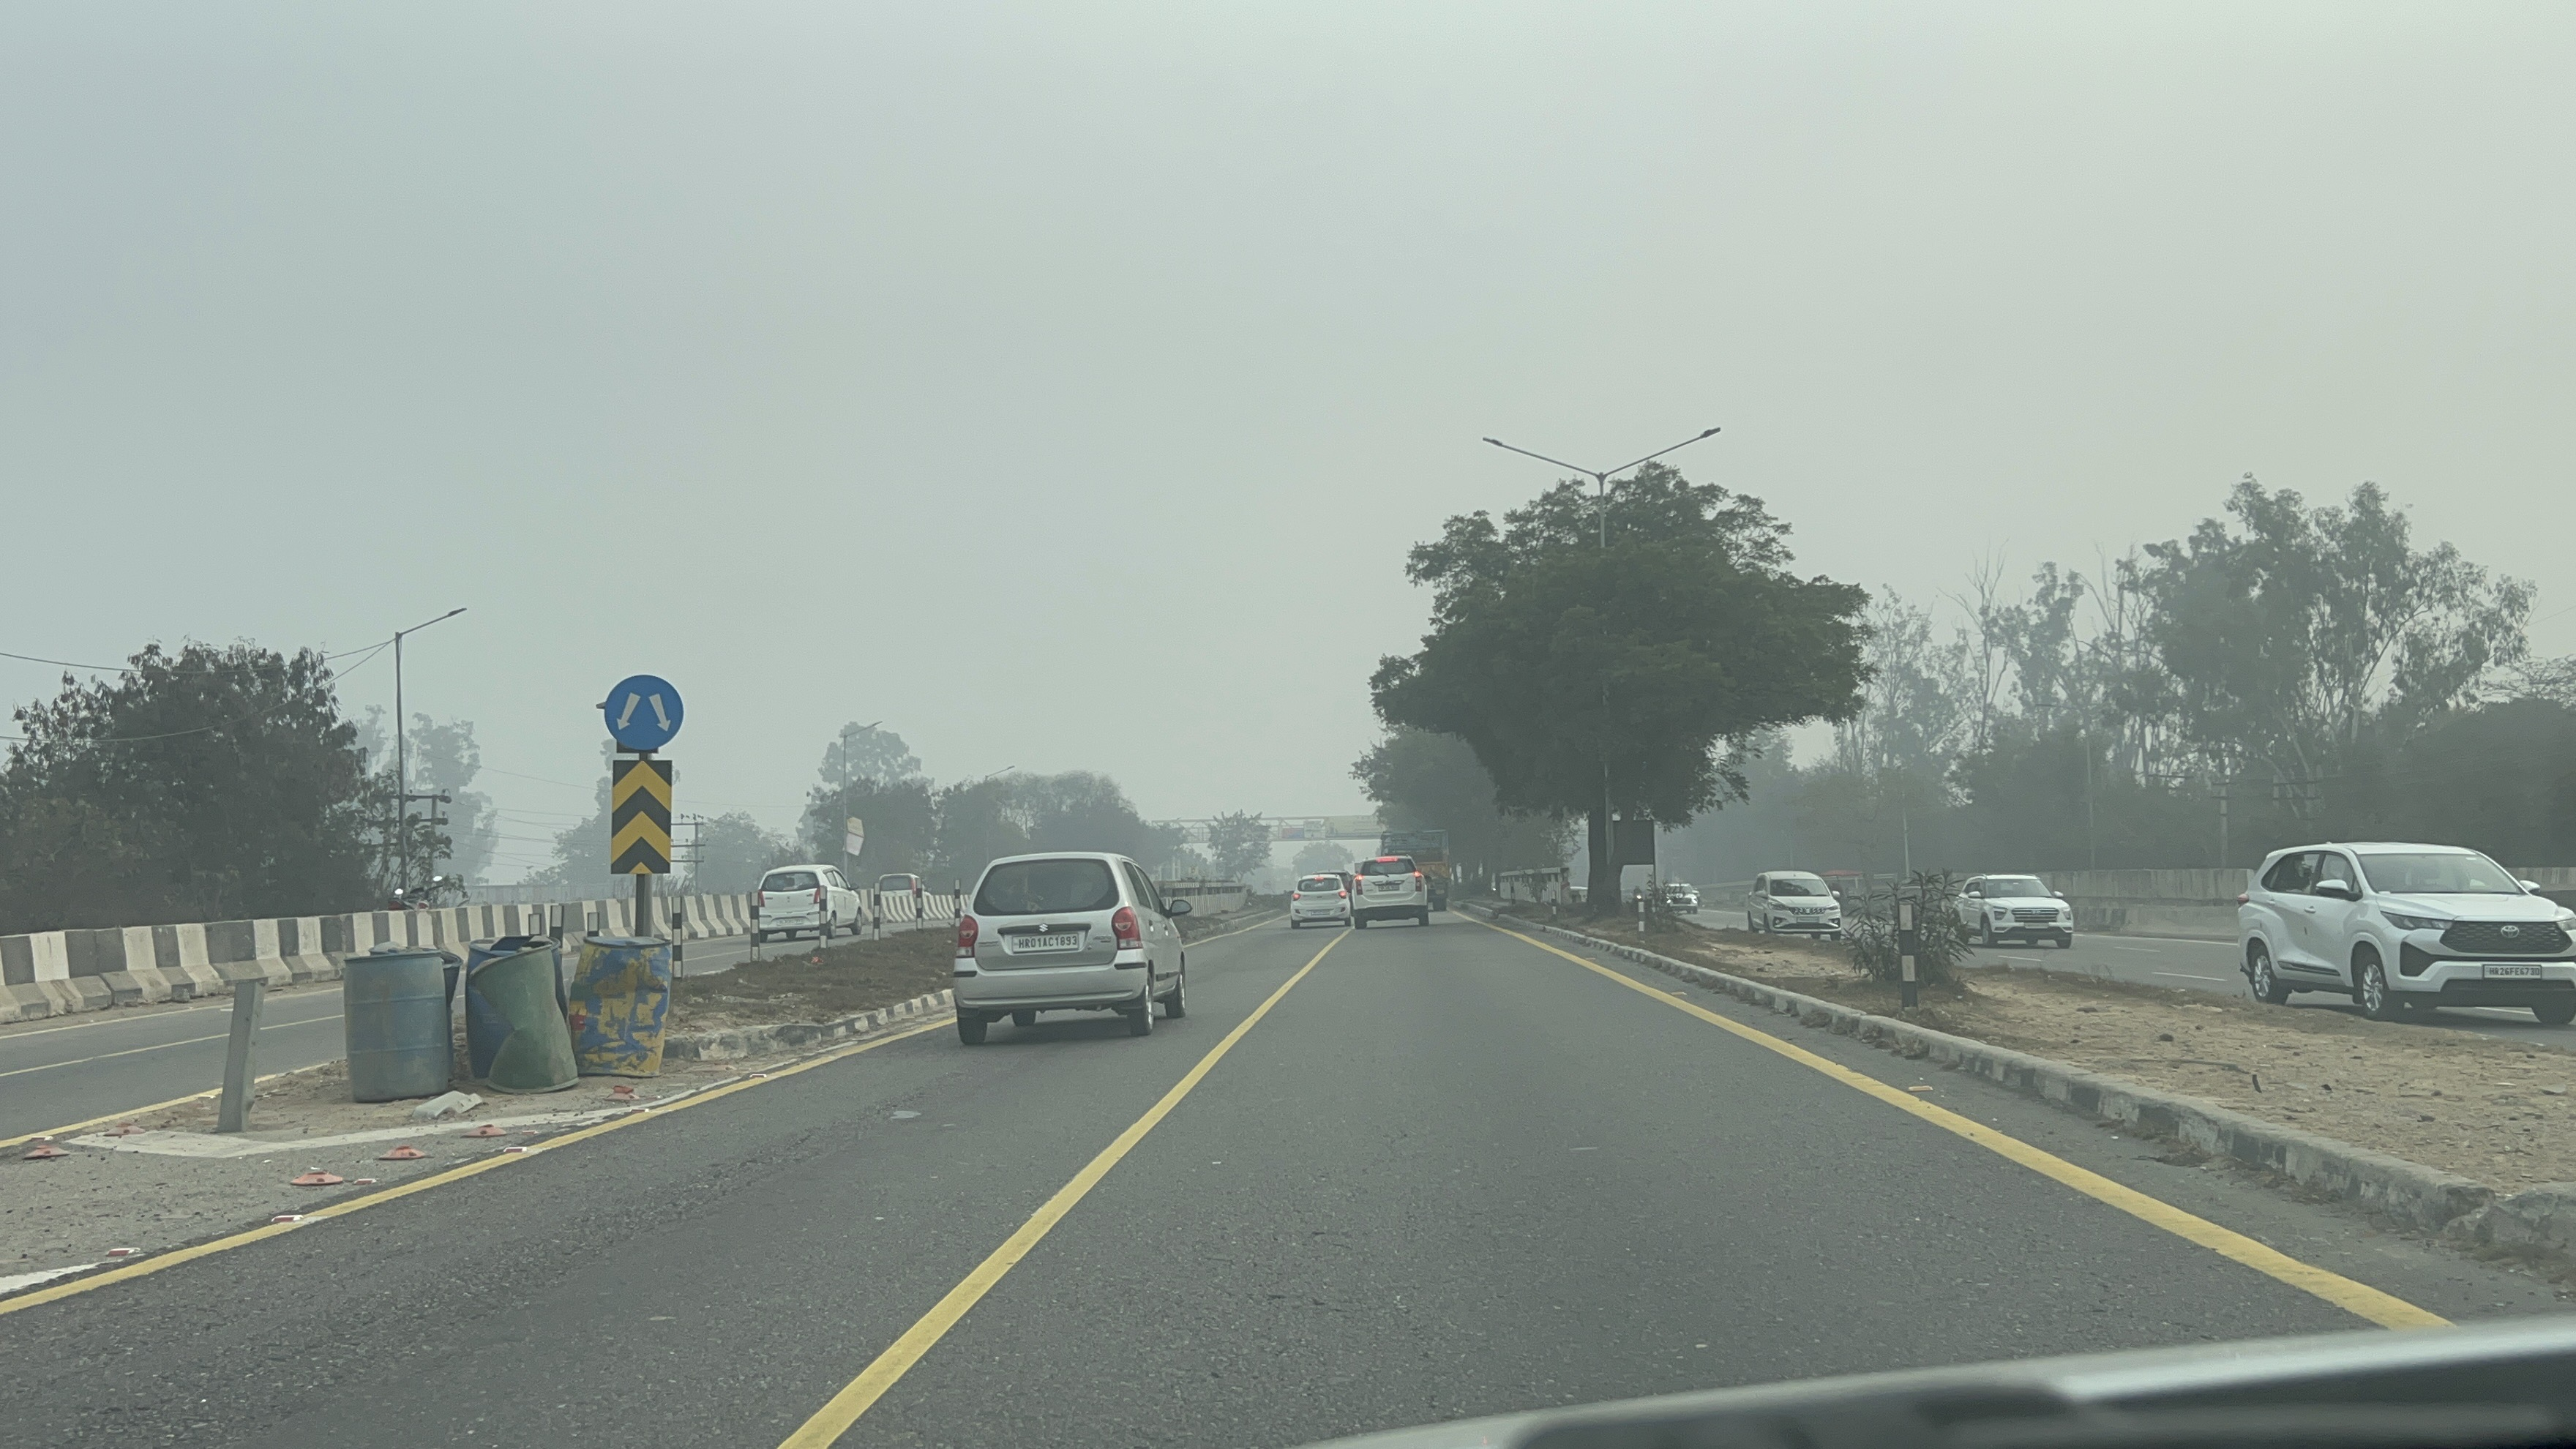General: (600, 757, 685, 876)
Regulatory: (589, 660, 694, 757)
